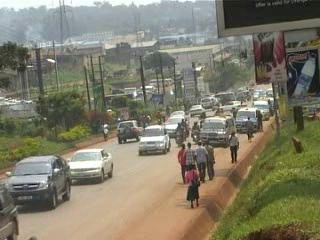Car: (4, 152, 73, 210), (62, 146, 114, 185), (0, 175, 23, 239), (134, 122, 173, 158), (116, 118, 146, 144), (161, 114, 189, 140), (167, 108, 190, 121), (189, 102, 208, 117)
Motorcycle: (171, 127, 185, 147), (189, 125, 199, 145), (178, 124, 188, 142), (197, 112, 208, 127)
